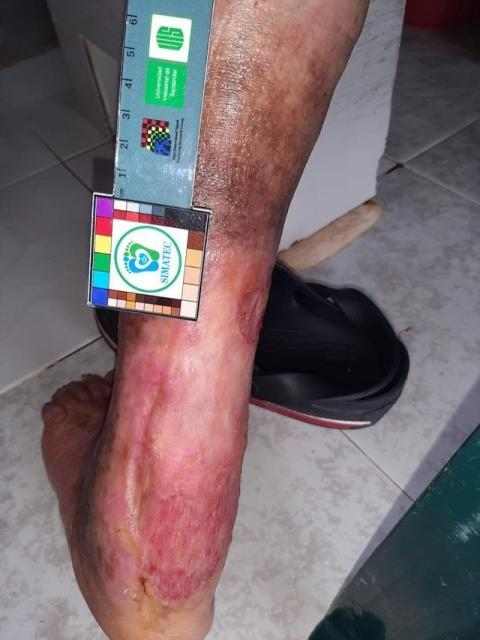wound: (127, 424, 241, 604), (238, 265, 272, 346)
